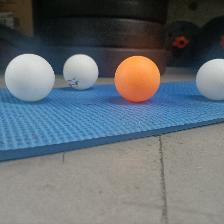WhiteBall: (4, 53, 54, 101), (62, 53, 98, 90), (194, 58, 224, 102)
YellowBall: (114, 55, 160, 102)
